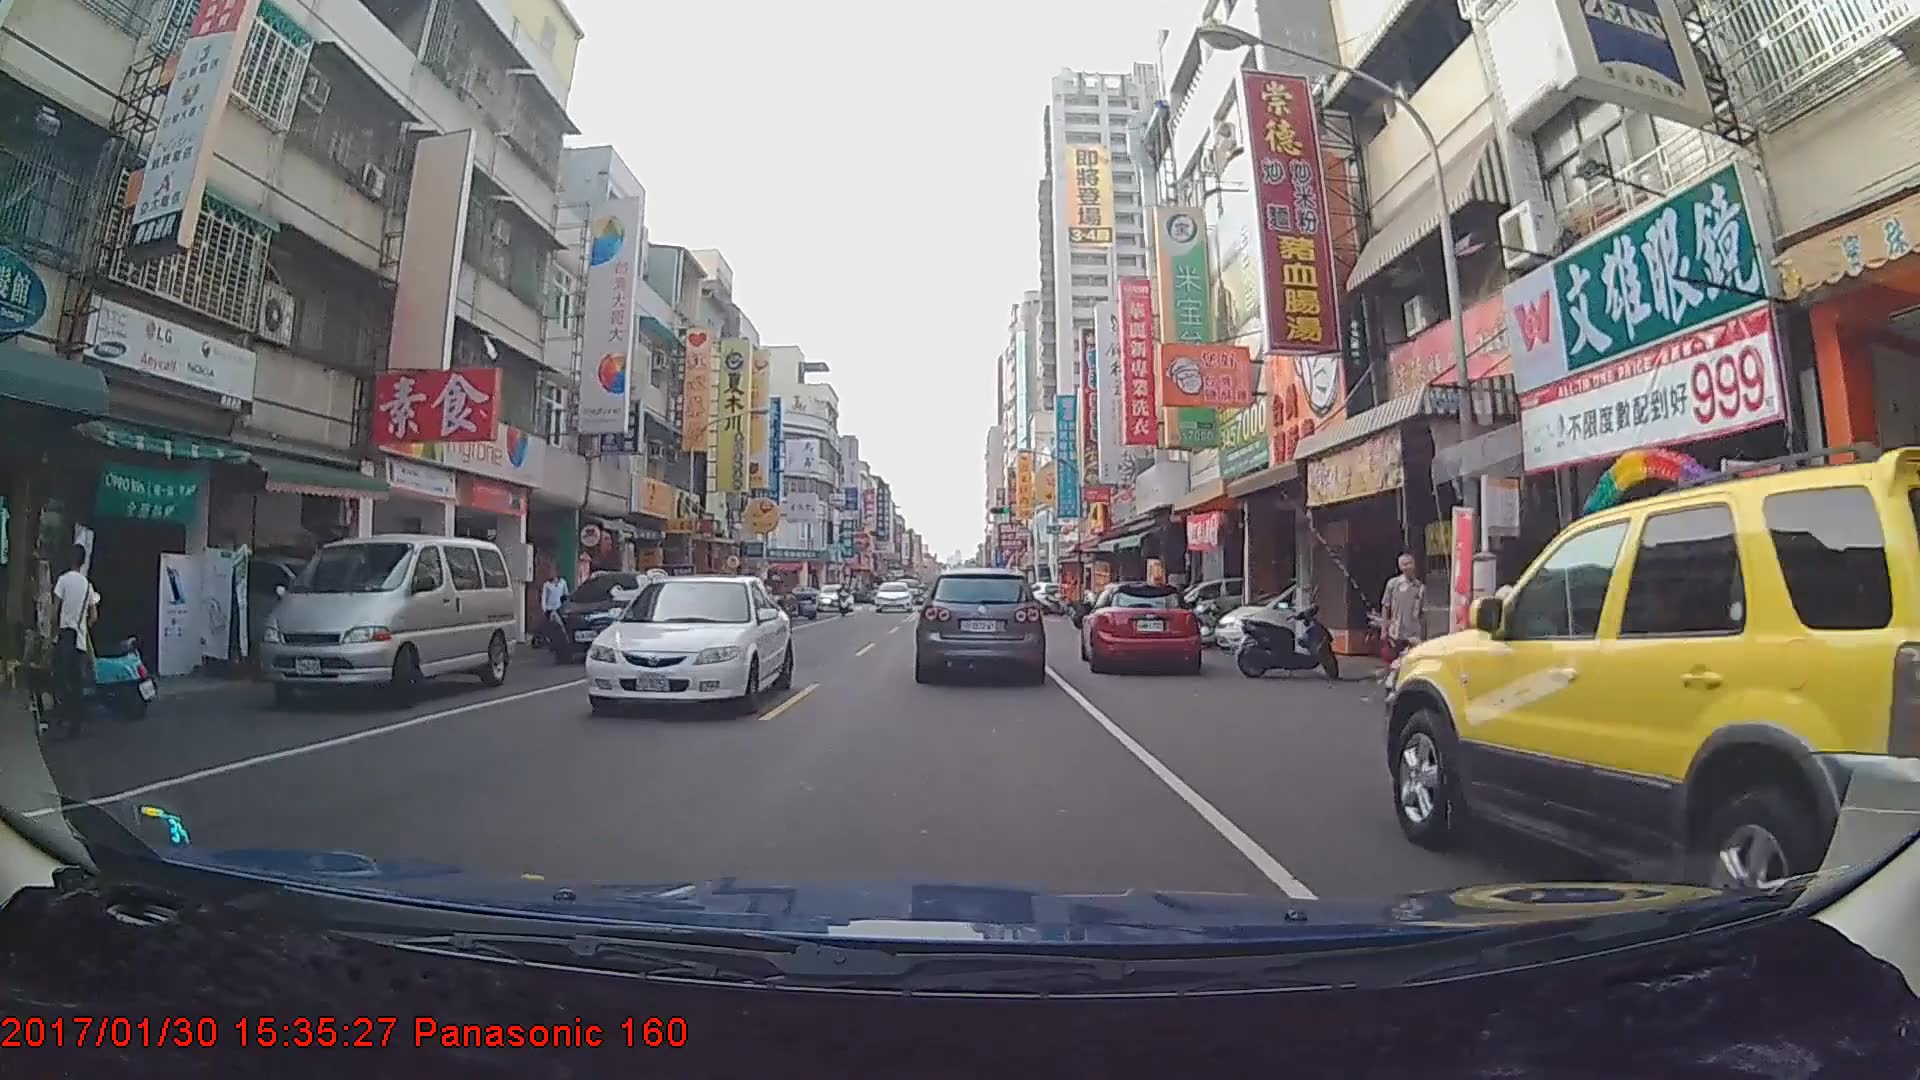pedestrian: (46, 543, 105, 742), (1379, 553, 1434, 712), (540, 569, 574, 644)
vehicle: (1385, 461, 1920, 945), (254, 531, 518, 710), (585, 572, 791, 719), (915, 567, 1044, 680), (546, 570, 680, 664), (1078, 578, 1201, 674), (871, 585, 912, 616), (816, 586, 853, 615)
